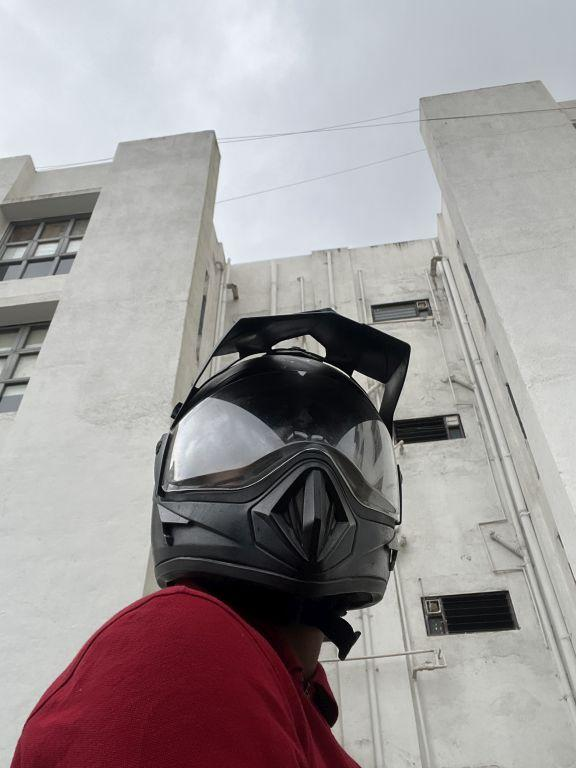helmet: (135, 287, 420, 642)
